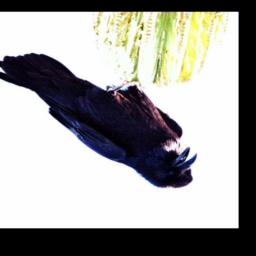Crow: (0, 52, 197, 189)
